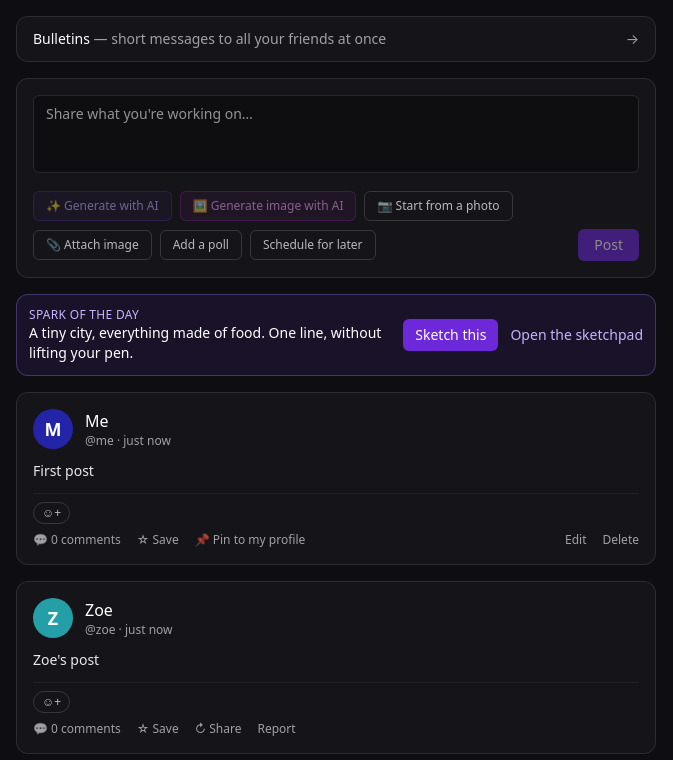
Scenario: FeedPage › only offers Delete on my own posts, and removes the post when deleted
expect the text "First post" is shown: met, box 33,461 -> 94,480
Click the button "Delete". click: (621, 540)
box: 602,532 -> 639,548
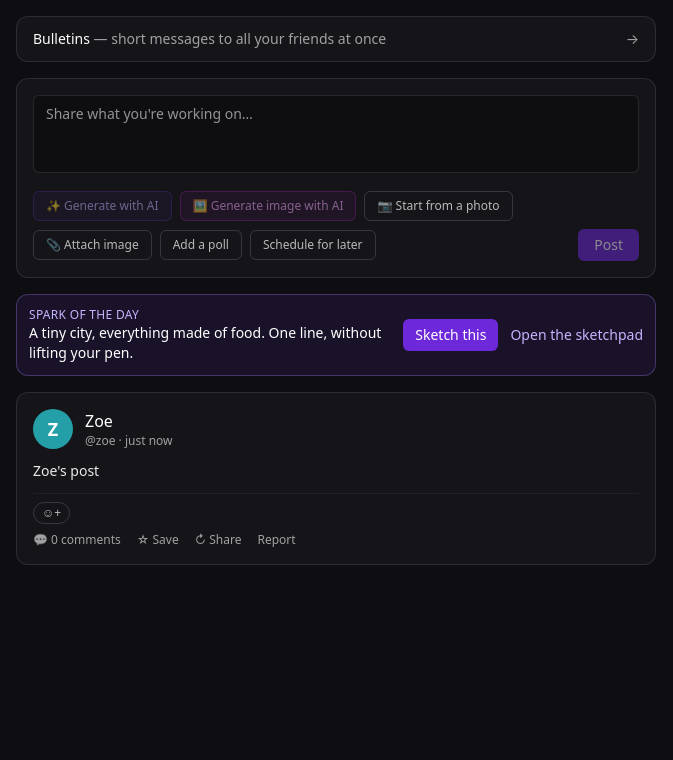
expect the text "Zoe's post" is shown: met, box 33,461 -> 99,480
expect the text "First post" is gone: met
